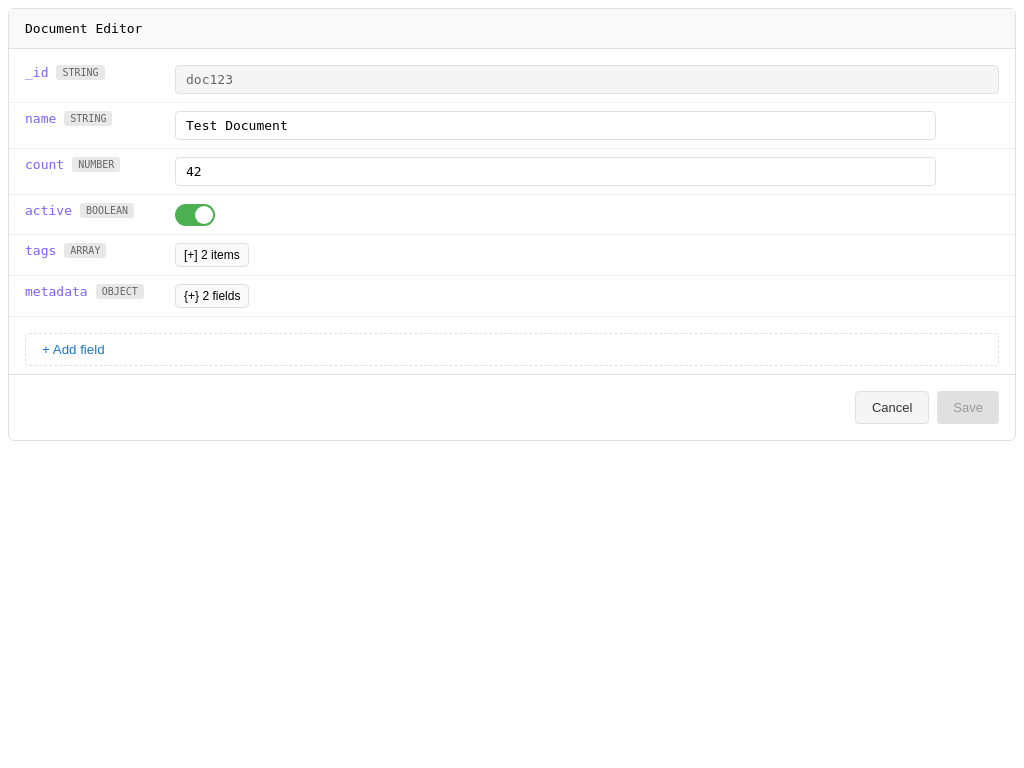
Test: DocumentEditor › inline field editing › expands arrays to show items
What coordinates should you click on to do the following:
click the button with aria-label "expand"
I would click on:
 (212, 255)
Its box is [175,243,249,267].
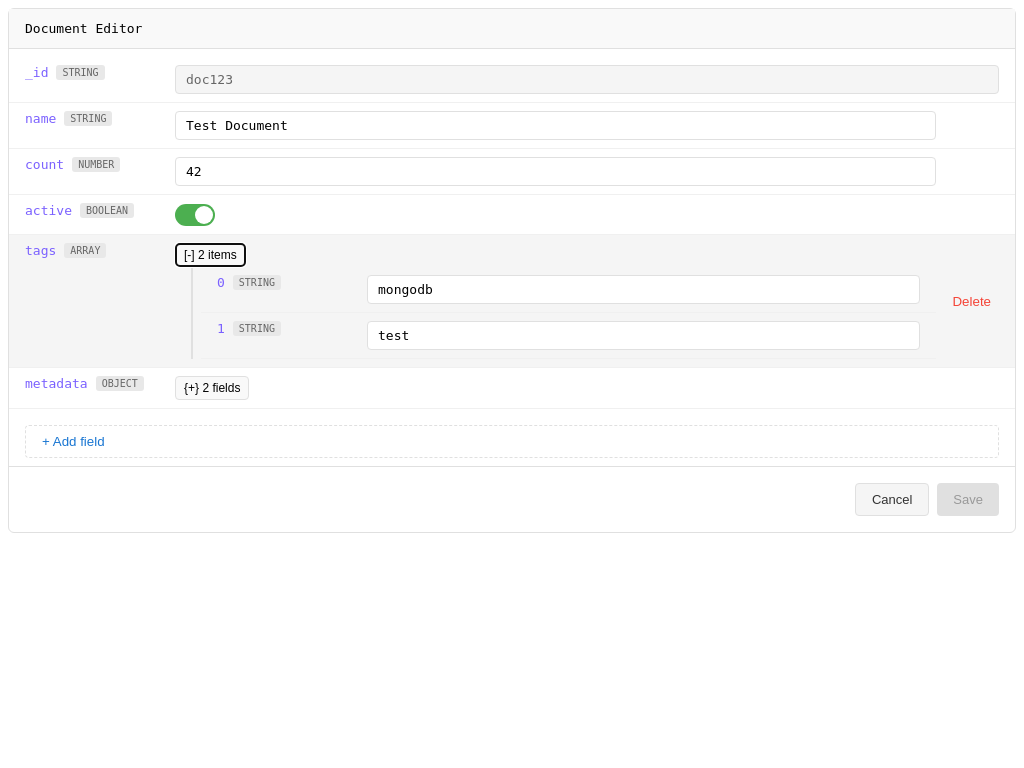
Result: the field showing "mongodb" is shown at [367,275,920,304]
Result: the field showing "test" is shown at [367,321,920,350]
